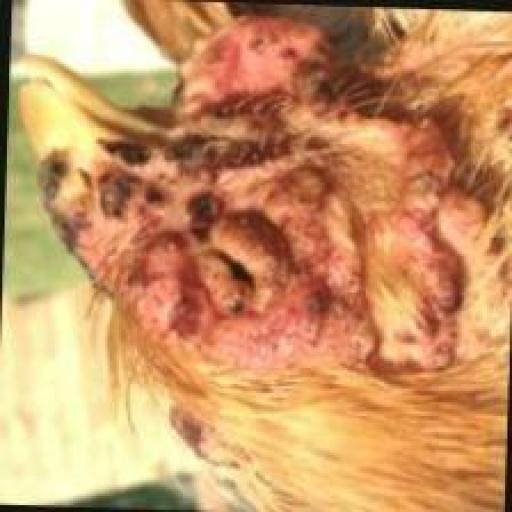disease: (16, 5, 495, 397)
